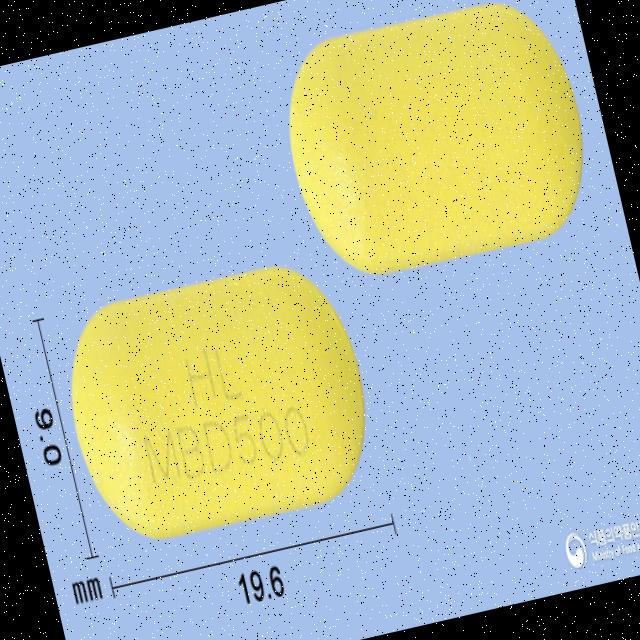Mabid: (50, 249, 388, 552), (268, 0, 604, 285)
